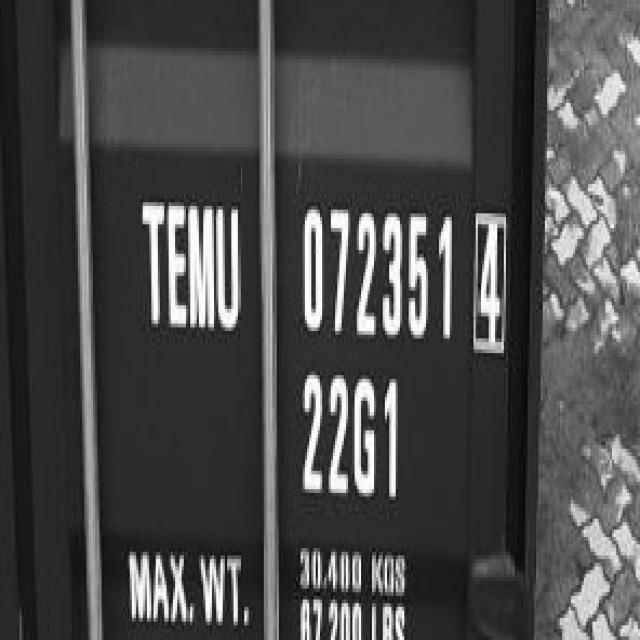dv: (466, 194, 512, 362)
owner: (139, 188, 250, 344)
serial: (298, 194, 456, 355)
size: (292, 364, 412, 507)
